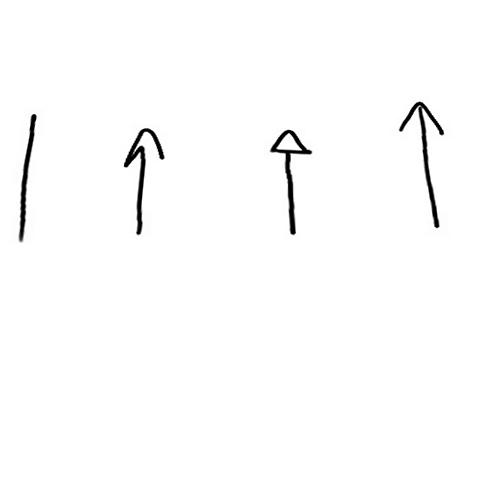arrow: (398, 100, 447, 228), (273, 128, 313, 236), (126, 123, 163, 236)
arrownohead: (18, 112, 38, 243)
